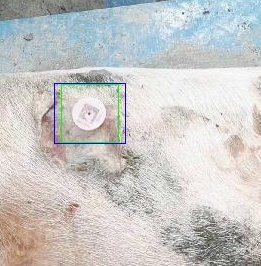text: (61, 84, 118, 142)
